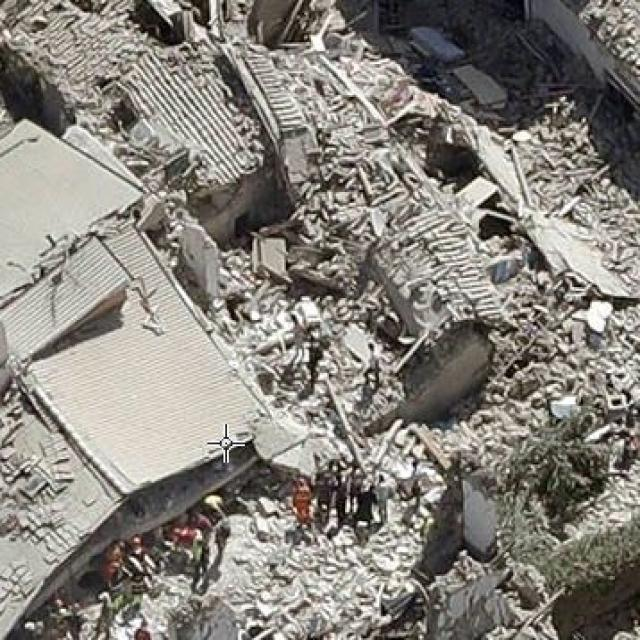collapsed_building: (158, 9, 578, 519)
